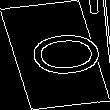O_E: (8, 29, 102, 81)
